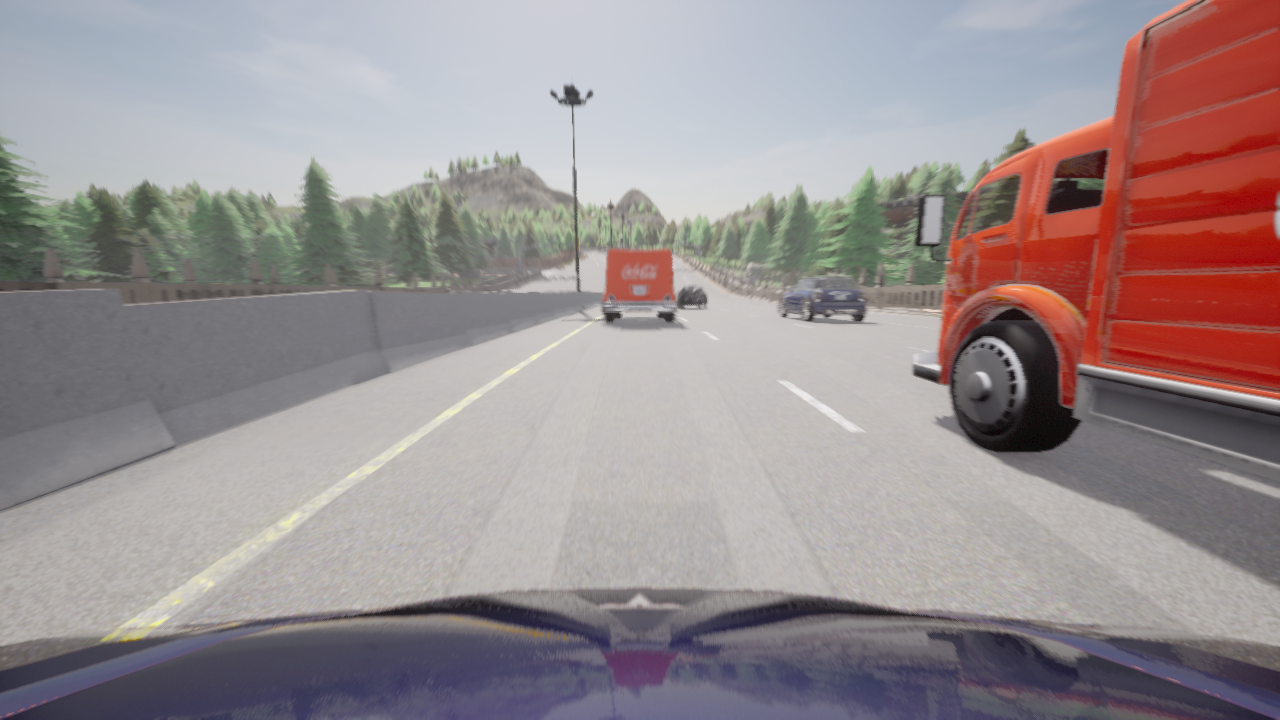cyclist: (913, 0, 1279, 481), (0, 588, 1279, 719), (603, 250, 677, 322), (779, 275, 866, 321), (677, 286, 707, 308)
